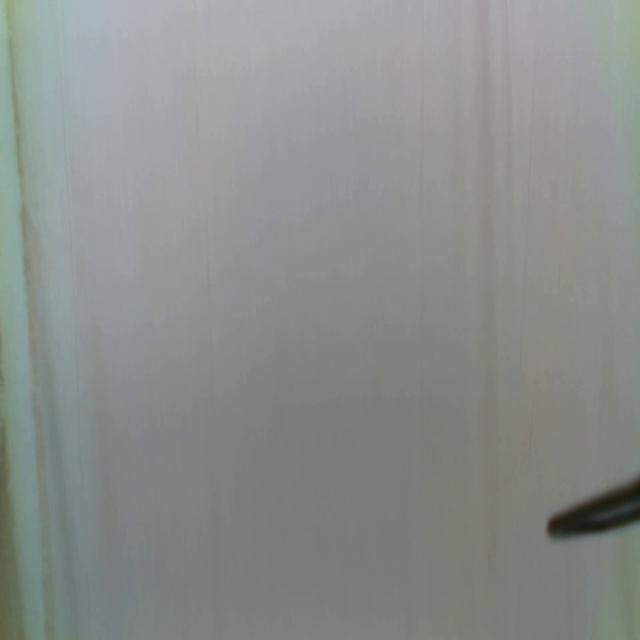color bleeding: (0, 0, 62, 639)
crease: (517, 39, 540, 372), (418, 0, 429, 265)
